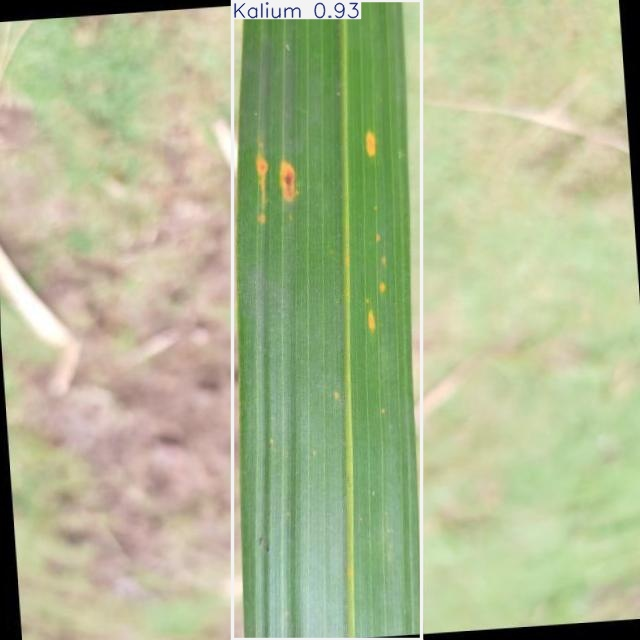Kalium: (233, 0, 422, 640)
